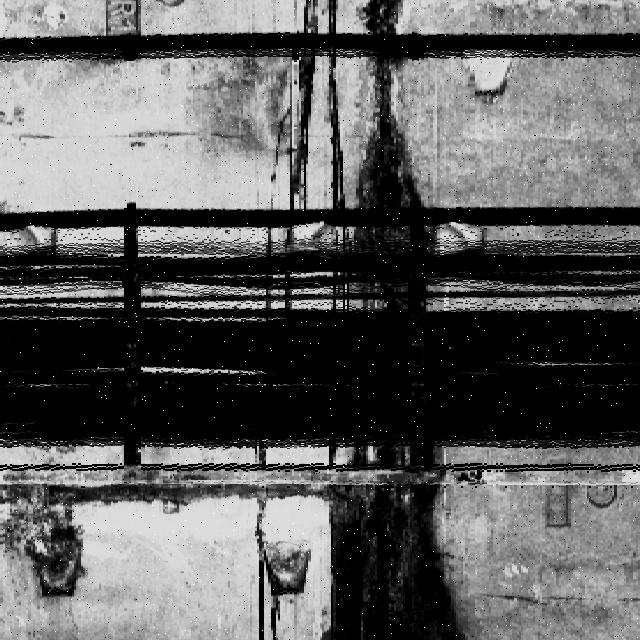leakage: (316, 441, 481, 640), (341, 1, 441, 296)
